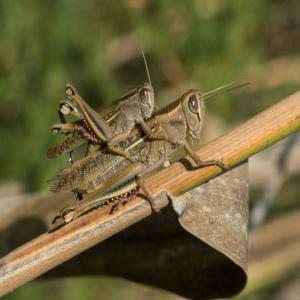locust: (42, 67, 187, 154), (169, 75, 225, 174)
